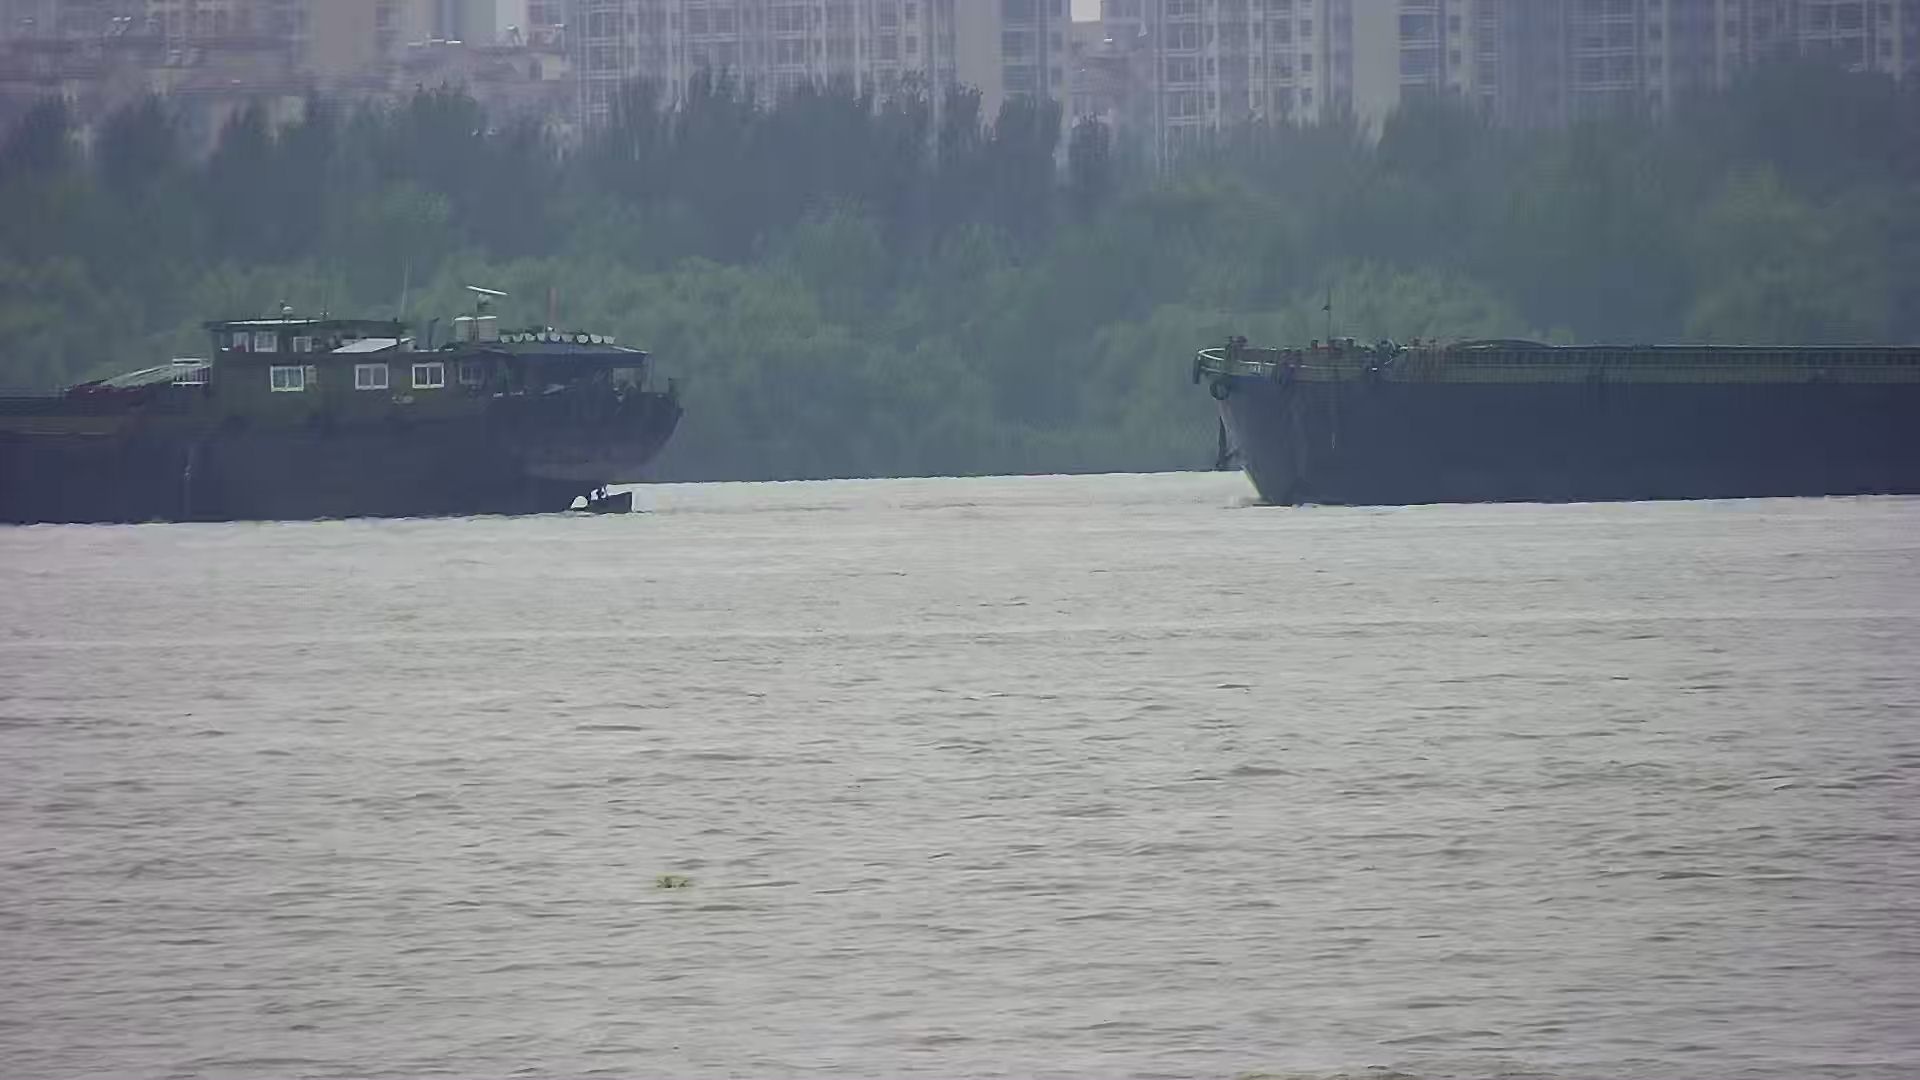ship: (1, 284, 684, 527), (1183, 285, 1920, 508)
